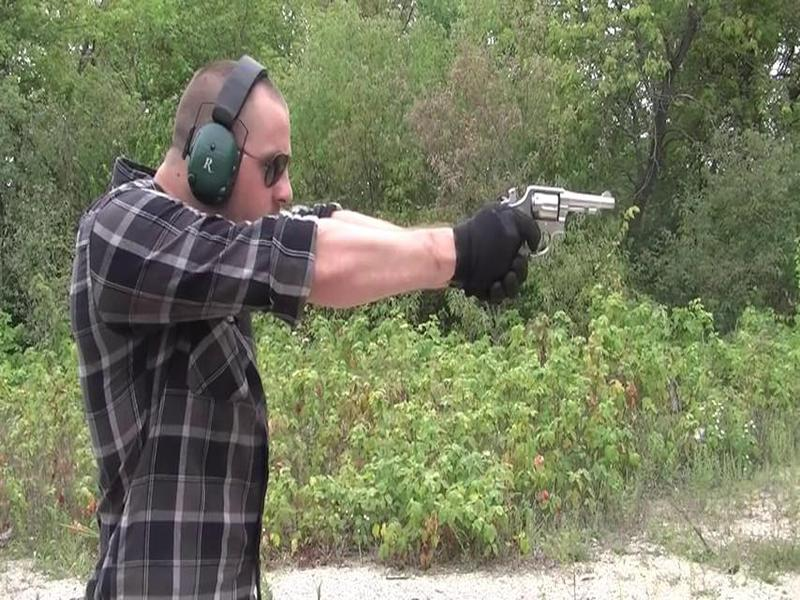Revolver: (494, 181, 628, 262)
